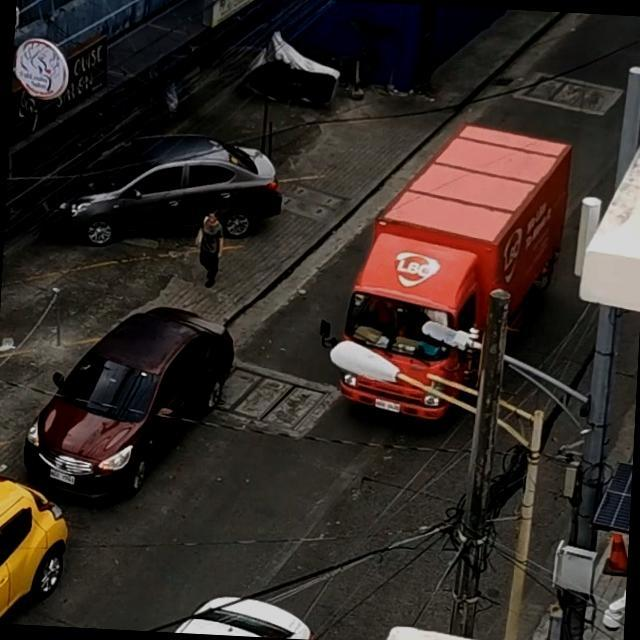Truck: (284, 61, 606, 488)
